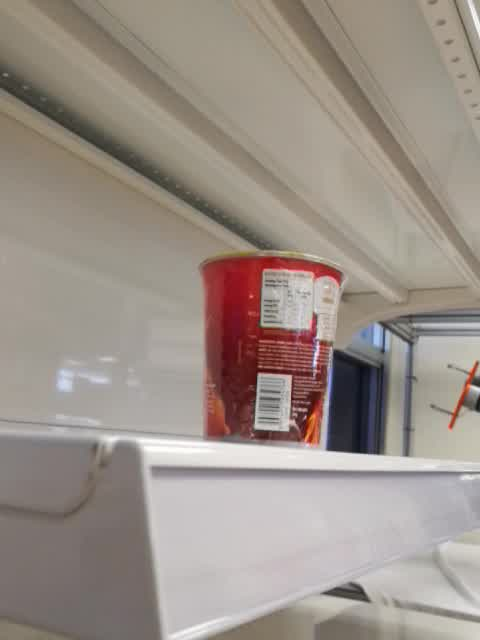maggi: (194, 246, 344, 449)
